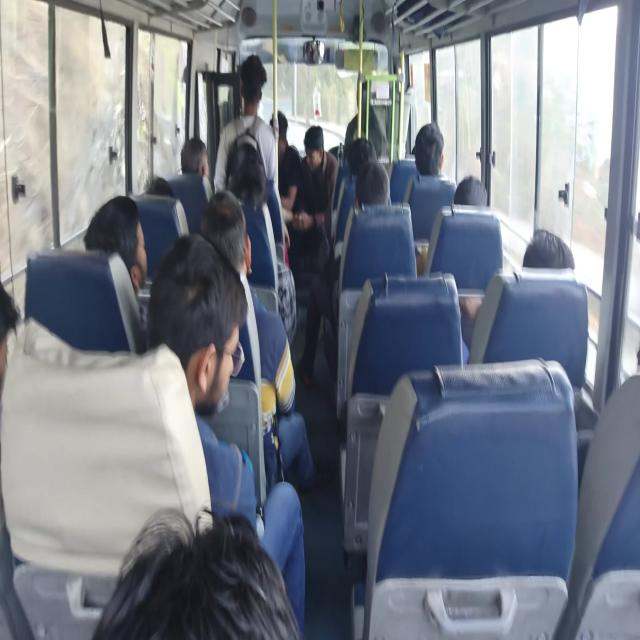person: (93, 509, 300, 638), (144, 233, 244, 416), (573, 315, 636, 598), (474, 225, 580, 377), (437, 179, 499, 354), (332, 152, 396, 311), (82, 195, 152, 340), (0, 276, 27, 623), (274, 107, 309, 270), (299, 125, 339, 258), (198, 189, 248, 276), (225, 136, 268, 206), (523, 228, 575, 271), (354, 157, 391, 208), (412, 122, 446, 177), (0, 277, 20, 361), (240, 54, 267, 98), (453, 175, 488, 208), (180, 137, 208, 177), (344, 113, 362, 151), (148, 176, 174, 196), (304, 125, 324, 151), (327, 144, 344, 168)
